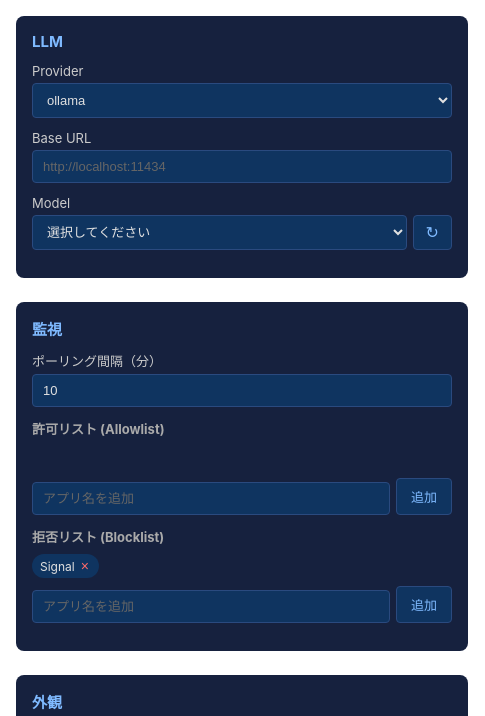
Test case: SettingsApp › プロバイダ切り替え › OpenAI選択時にBase URL, API Key, Modelが表示される
Step 1. Select "openai" in the dropdown showing "ollama" → {"x": 242, "y": 100}, box [32,83,452,118]
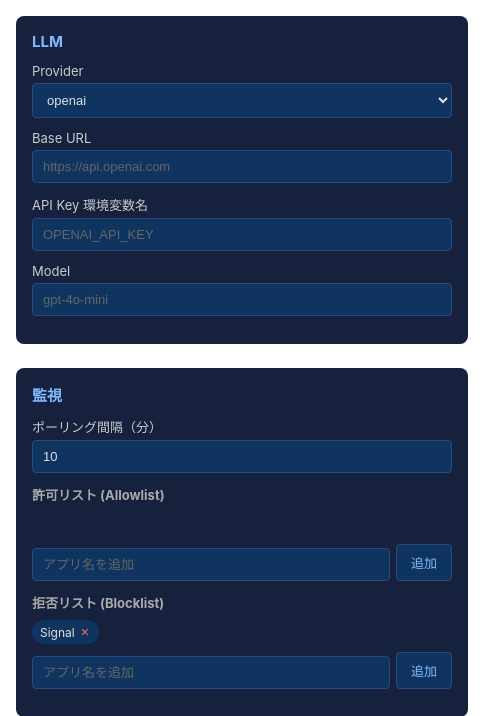
Now the field with placeholder "https://api.openai.com" is shown, box [32,150,452,183]
Now the field with placeholder "OPENAI_API_KEY" is shown, box [32,218,452,251]
Now the field with placeholder "gpt-4o-mini" is shown, box [32,283,452,316]
